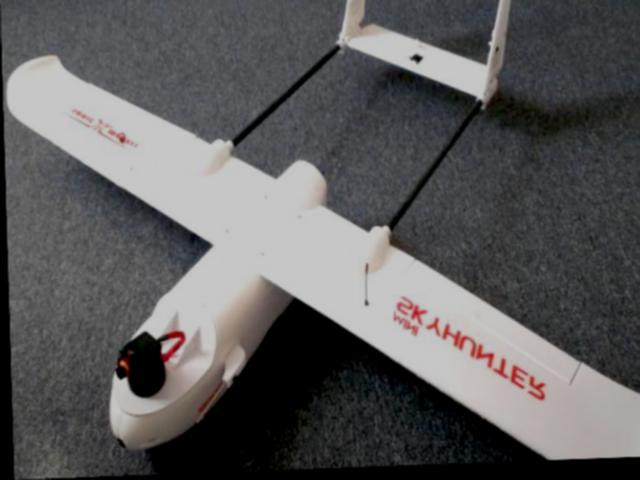iha: (3, 0, 640, 480)
